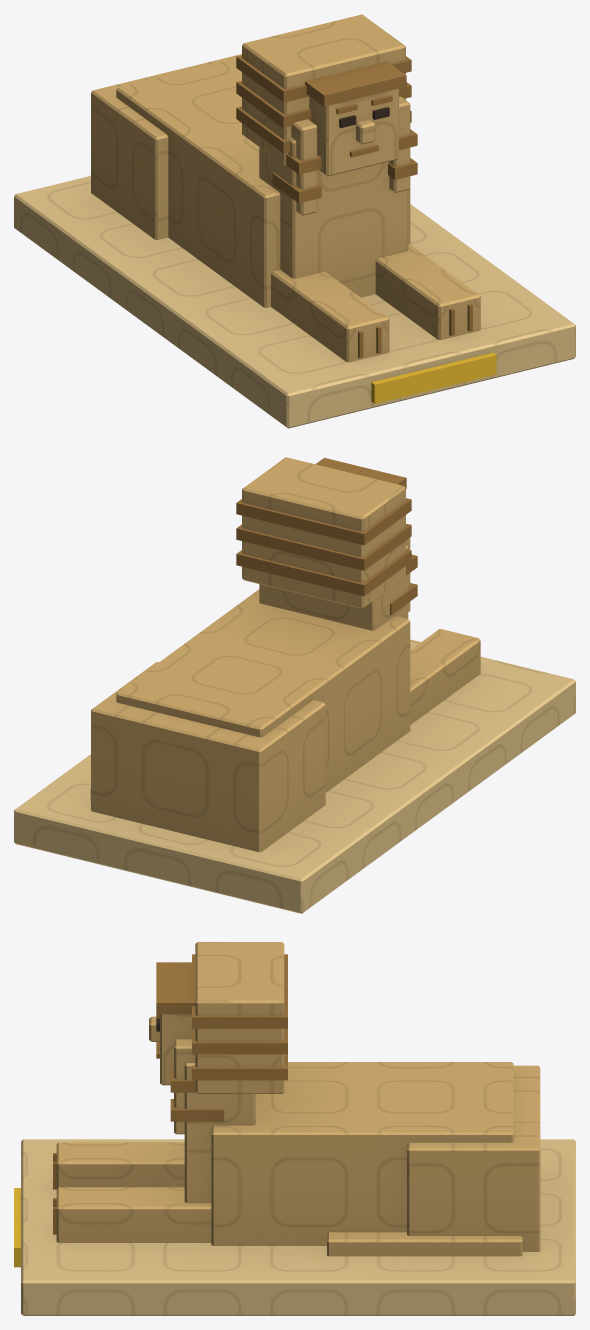
Rendered from GreatSphinx.fbx.
3 renders of one model, top to bottom at view 1: azimuth 30°, elevation 25°; view 2: azimuth 150°, elevation 25°; view 3: azimuth 270°, elevation 25°, orthographic.
Visible parts, largest first — view 1: Art_GreatSphinx; view 2: Art_GreatSphinx; view 3: Art_GreatSphinx.
Boxes of the visible parts, box(x1,y1,x2,y2) form: Art_GreatSphinx: box(14, 14, 575, 428); Art_GreatSphinx: box(14, 457, 575, 913); Art_GreatSphinx: box(14, 942, 575, 1315).
Size of the model in its own units: 1.9 by 1.7 by 3.16.
